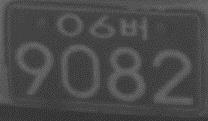0: (59, 42, 101, 101), (54, 10, 85, 37)
2: (152, 47, 194, 107)
6: (87, 13, 116, 39)
8: (106, 45, 147, 103)
9: (14, 40, 54, 96)
버: (118, 14, 148, 41)
